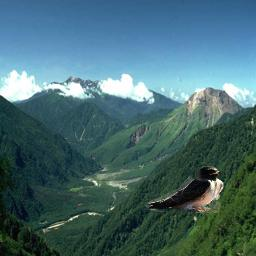Swallow: (145, 166, 224, 213)
